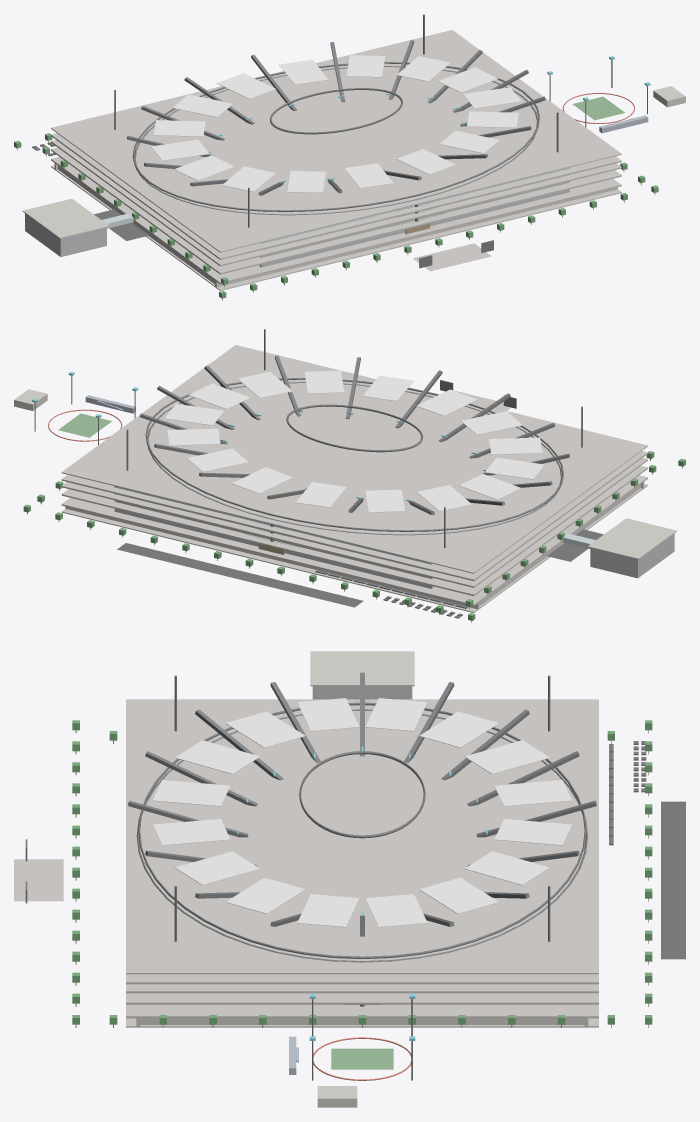
3 views of the same model, one above another, from view 1: azimuth 30°, elevation 25°; view 2: azimuth 150°, elevation 25°; view 3: azimuth 270°, elevation 25° (orthographic). The views are drawn at different scales.
Visible parts, largest first — view 1: Slab_F4_Top, Slab_F2, Slab_F1, Slab_F4, Slab_F3, Slab_B1, Warmup_Hall_Roof, Roof_Truss_TensionRing, Warmup_Hall_Mass, Wall_B1_S, Beam_Ring_F4, Site_Plaza_S (+26 smaller); view 2: Slab_F4_Top, Slab_F2, Slab_F1, Slab_F4, Slab_F3, Slab_B1, Site_Road_N, Warmup_Hall_Roof, Roof_Truss_TensionRing, Warmup_Hall_Mass, Wall_B1_N, Beam_Ring_F4 (+26 smaller); view 3: Slab_F4_Top, Slab_F1, Slab_F2, Slab_F4, Site_Road_N, Slab_F3, Warmup_Hall_Roof, Wall_B1_E, Roof_Truss_TensionRing, Site_Plaza_S, Beam_Ring_F4, Roof_Membrane_14 (+24 smaller).
Boxes of the visible parts, <box> form: Slab_F4_Top: <box>51,30,621,252</box>; Slab_F2: <box>51,147,621,273</box>; Slab_F1: <box>51,157,621,283</box>; Slab_F4: <box>51,133,621,258</box>; Slab_F3: <box>51,140,621,265</box>; Slab_B1: <box>51,165,621,290</box>; Warmup_Hall_Roof: <box>22,198,109,238</box>; Roof_Truss_TensionRing: <box>132,62,539,211</box>; Warmup_Hall_Mass: <box>25,213,106,256</box>; Wall_B1_S: <box>215,187,617,287</box>; Beam_Ring_F4: <box>134,66,537,215</box>; Site_Plaza_S: <box>413,243,491,271</box>; Slab_F4_Top: <box>61,345,647,573</box>; Slab_F2: <box>61,465,647,595</box>; Slab_F1: <box>61,475,647,605</box>; Slab_F4: <box>61,451,647,580</box>; Slab_F3: <box>62,458,647,586</box>; Slab_B1: <box>61,484,647,612</box>; Site_Road_N: <box>117,543,363,607</box>; Warmup_Hall_Roof: <box>587,518,676,559</box>; Roof_Truss_TensionRing: <box>145,378,563,531</box>; Warmup_Hall_Mass: <box>590,533,674,578</box>; Wall_B1_N: <box>65,506,479,609</box>; Beam_Ring_F4: <box>147,382,562,535</box>; Slab_F4_Top: <box>126,699,598,974</box>; Slab_F1: <box>126,1004,598,1017</box>; Slab_F2: <box>126,993,598,1003</box>; Slab_F4: <box>126,974,598,983</box>; Site_Road_N: <box>661,801,685,959</box>; Slab_F3: <box>126,984,598,992</box>; Warmup_Hall_Roof: <box>310,651,414,686</box>; Wall_B1_E: <box>140,1018,584,1024</box>; Roof_Truss_TensionRing: <box>138,702,586,958</box>; Site_Plaza_S: <box>14,859,63,901</box>; Beam_Ring_F4: <box>136,709,587,962</box>; Roof_Membrane_14: <box>174,851,260,885</box>.
Bounding box in the file's own units: 407 × 48.65 × 270.
